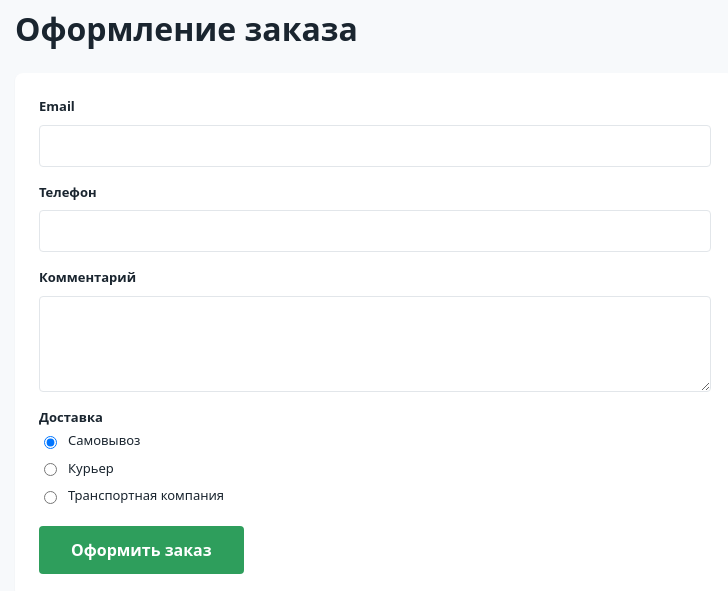
Test: CheckoutPage › disables submit button while order is being created
Type "a@b.co" into the field labelled "Email" at (375, 146), box [39,124,711,166]
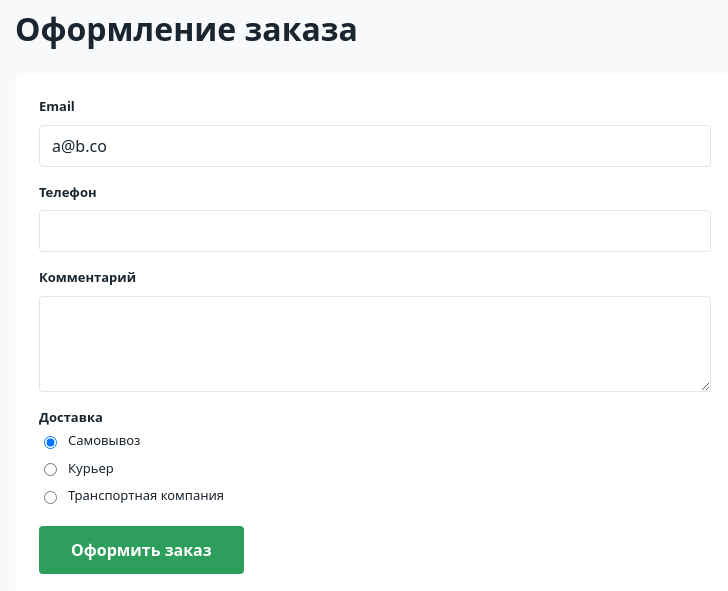
Type "+71234567890" into the field labelled "Телефон" at (375, 231), box [39,210,711,252]
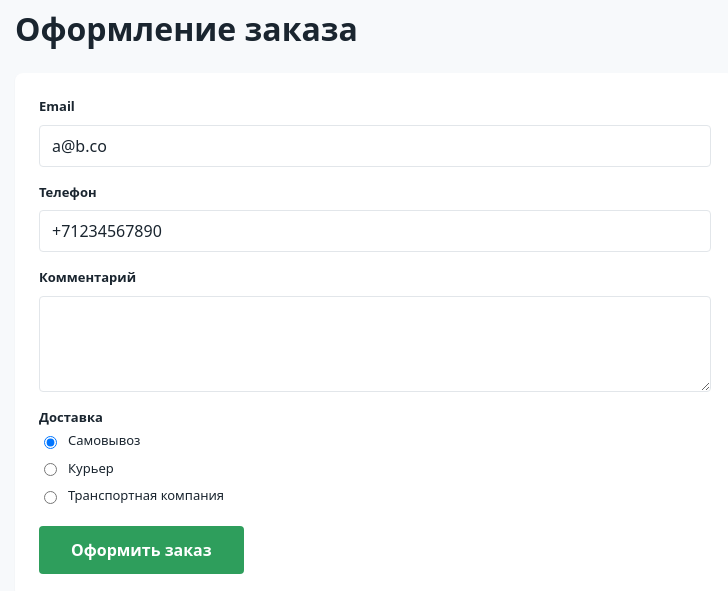
Click the button "Оформить заказ" at (141, 550), box [39,526,244,574]
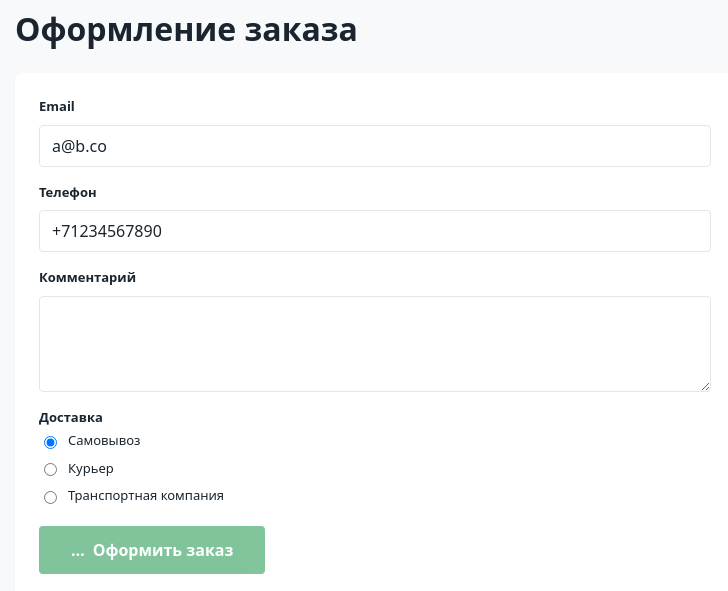
Result: the button "… Оформить заказ" is disabled at [39,526,265,574]
